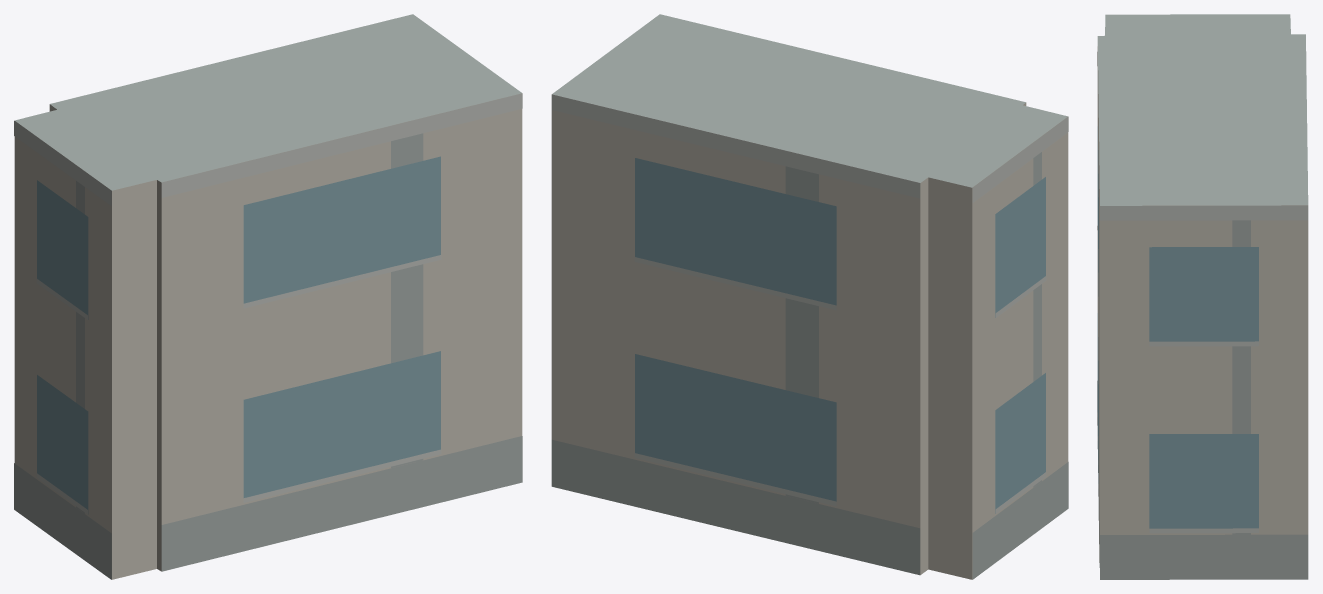
The model's file is survey-upis-32642197.glb.
3 views of the same model, side by side, from view 1: azimuth 30°, elevation 25°; view 2: azimuth 150°, elevation 25°; view 3: azimuth 270°, elevation 25° (orthographic). The views are drawn at different scales.
Visible parts, largest first — view 1: survey-upis-32642197.tmp; view 2: survey-upis-32642197.tmp; view 3: survey-upis-32642197.tmp.
Boxes of the visible parts, <box> form: survey-upis-32642197.tmp: <box>14,14,522,579</box>; survey-upis-32642197.tmp: <box>551,14,1068,579</box>; survey-upis-32642197.tmp: <box>1097,14,1308,579</box>.
Bounding box in the file's own units: 6.73 × 6.1 × 3.13.
